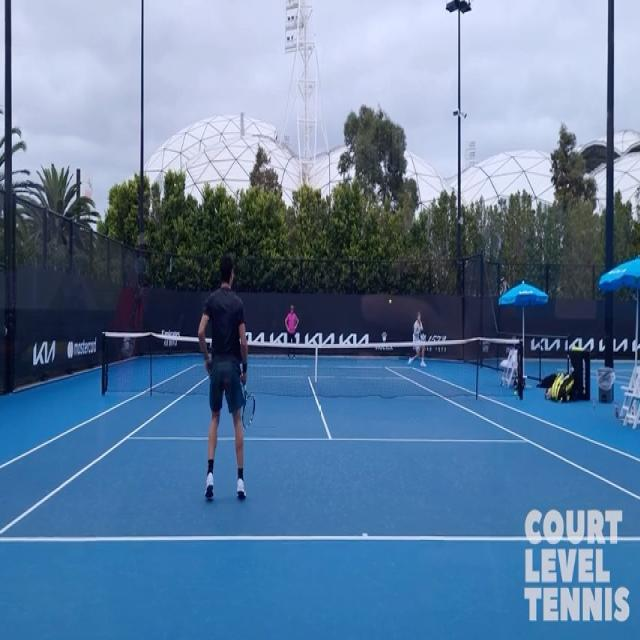ready-position: (195, 244, 259, 509)
